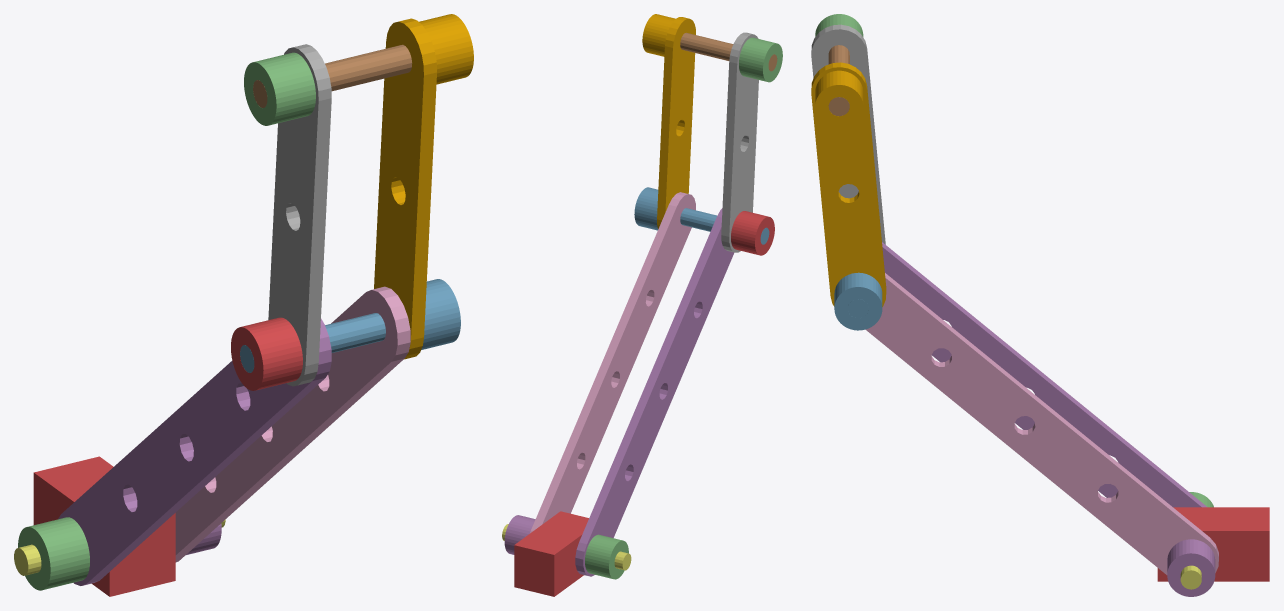
3 renders of one model, left to right at view 1: azimuth 30°, elevation 25°; view 2: azimuth 150°, elevation 25°; view 3: azimuth 270°, elevation 25°, orthographic. The views are drawn at different scales.
Parts seen in each view (by area): view 1: g3, g4, g7, g8, g0, g9, g2, g11, g6, g13, g10, g1 (+1 smaller); view 2: g7, g3, g4, g8, g0, g2, g9, g11, g6, g13, g10, g1 (+1 smaller); view 3: g7, g4, g3, g0, g8, g13, g10, g12, g6.
Part boxes in pixels (bbox=[...]): g3: bbox=[58, 318, 331, 585]; g4: bbox=[374, 18, 436, 359]; g7: bbox=[175, 286, 410, 562]; g8: bbox=[268, 44, 331, 386]; g0: bbox=[33, 456, 175, 596]; g9: bbox=[231, 317, 302, 390]; g2: bbox=[244, 52, 315, 125]; g11: bbox=[18, 517, 89, 590]; g6: bbox=[253, 44, 412, 107]; g13: bbox=[419, 14, 473, 84]; g10: bbox=[421, 279, 460, 349]; g1: bbox=[240, 313, 385, 372]; g7: bbox=[530, 192, 695, 533]; g3: bbox=[575, 208, 733, 576]; g4: bbox=[657, 17, 695, 228]; g8: bbox=[721, 32, 758, 252]; g0: bbox=[514, 511, 588, 596]; g2: bbox=[739, 37, 782, 82]; g9: bbox=[731, 211, 774, 255]; g11: bbox=[585, 534, 628, 579]; g6: bbox=[680, 32, 777, 71]; g13: bbox=[642, 14, 675, 56]; g10: bbox=[634, 187, 658, 230]; g1: bbox=[680, 208, 769, 244]; g7: bbox=[865, 273, 1218, 574]; g4: bbox=[811, 62, 886, 306]; g3: bbox=[882, 242, 1207, 507]; g0: bbox=[1157, 507, 1269, 581]; g8: bbox=[811, 24, 885, 244]; g13: bbox=[815, 70, 863, 128]; g10: bbox=[834, 272, 882, 330]; g12: bbox=[1167, 539, 1215, 596]; g6: bbox=[828, 45, 849, 116].
Size of the model in its own units: 0.5516 by 1.9 by 1.51.
